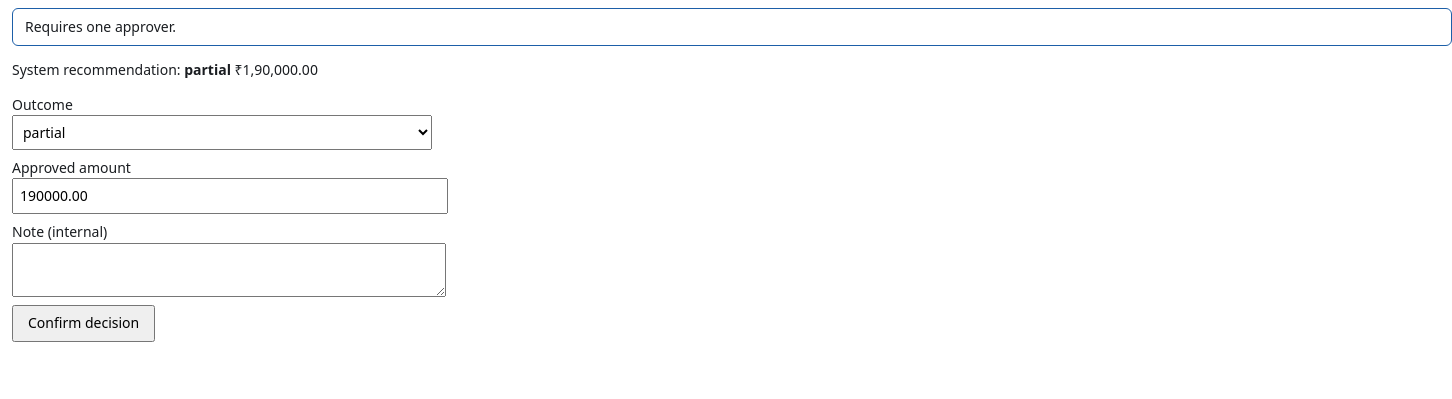
Test case: decision form › submits the recommendation with If-Match and an Idempotency-Key
This screenshot has width=1452, height=399.
Click the button "Confirm decision".
click(84, 324)  # box top-left (12, 305), bottom-right (155, 342)
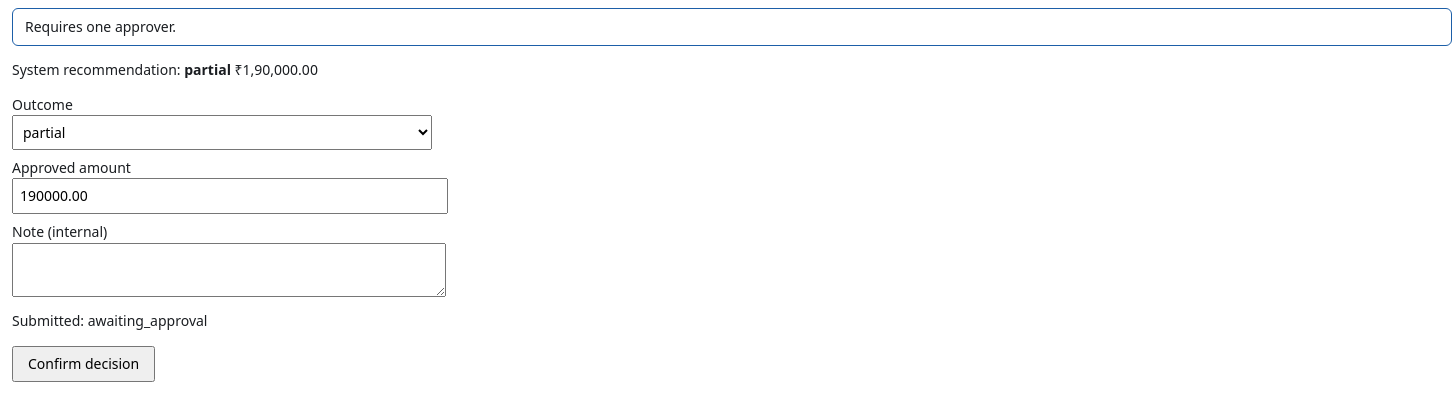
Check: the text "Submitted: awaiting_approval" is shown, box top-left (12, 311), bottom-right (208, 330)
